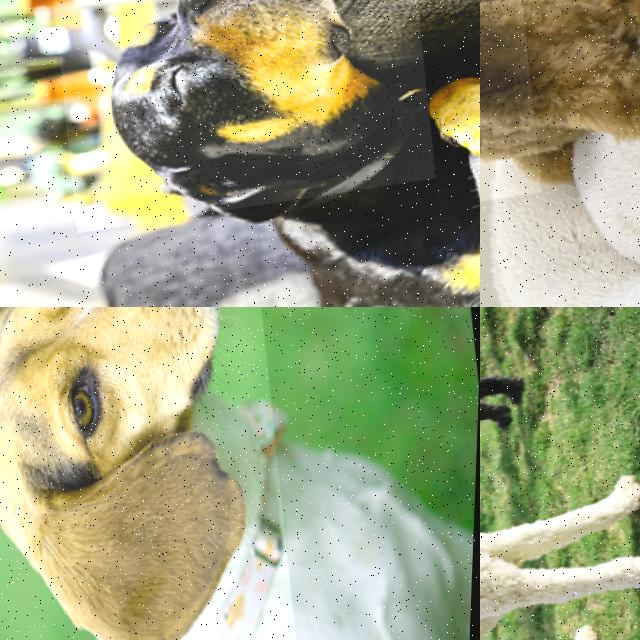beagle: (0, 307, 315, 640)
poodle: (480, 0, 552, 242)
rottweiler: (40, 0, 445, 234)
